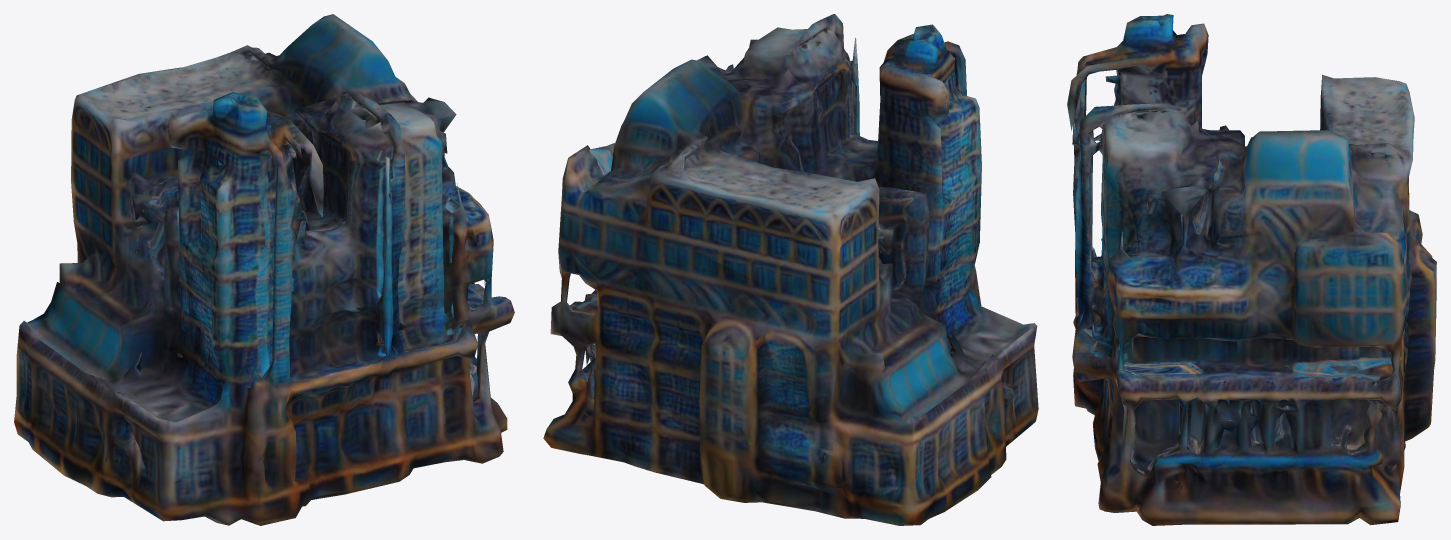
Rendered from fd770a1f794a_DYNAMIC_INTRICATE_S.fbx.
3 views of the same model, side by side, from view 1: azimuth 30°, elevation 25°; view 2: azimuth 150°, elevation 25°; view 3: azimuth 270°, elevation 25° (orthographic). The views are drawn at different scales.
Visible parts, largest first — view 1: mesh; view 2: mesh; view 3: mesh.
Boxes of the visible parts, left/top/right/bottom form: mesh: left=14, top=14, right=514, bottom=525; mesh: left=543, top=14, right=1038, bottom=525; mesh: left=1067, top=14, right=1436, bottom=525.
Size of the model in its own units: 99.93 by 99.57 by 86.06.
